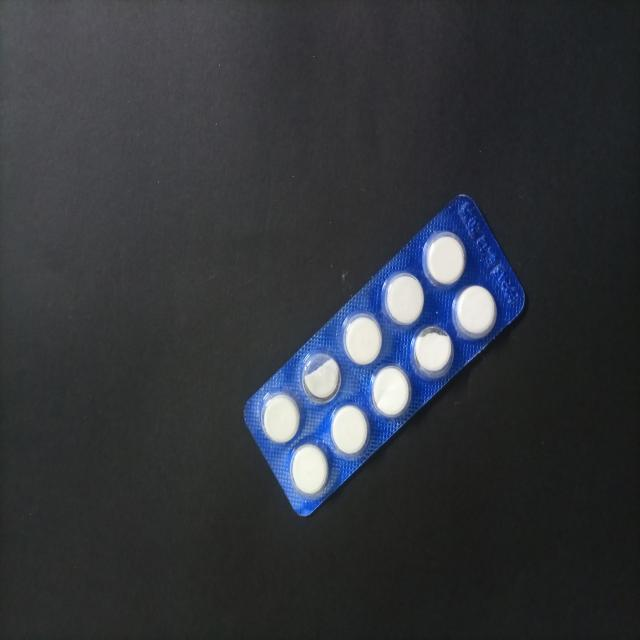defect: (299, 347, 343, 406), (409, 325, 455, 381)
